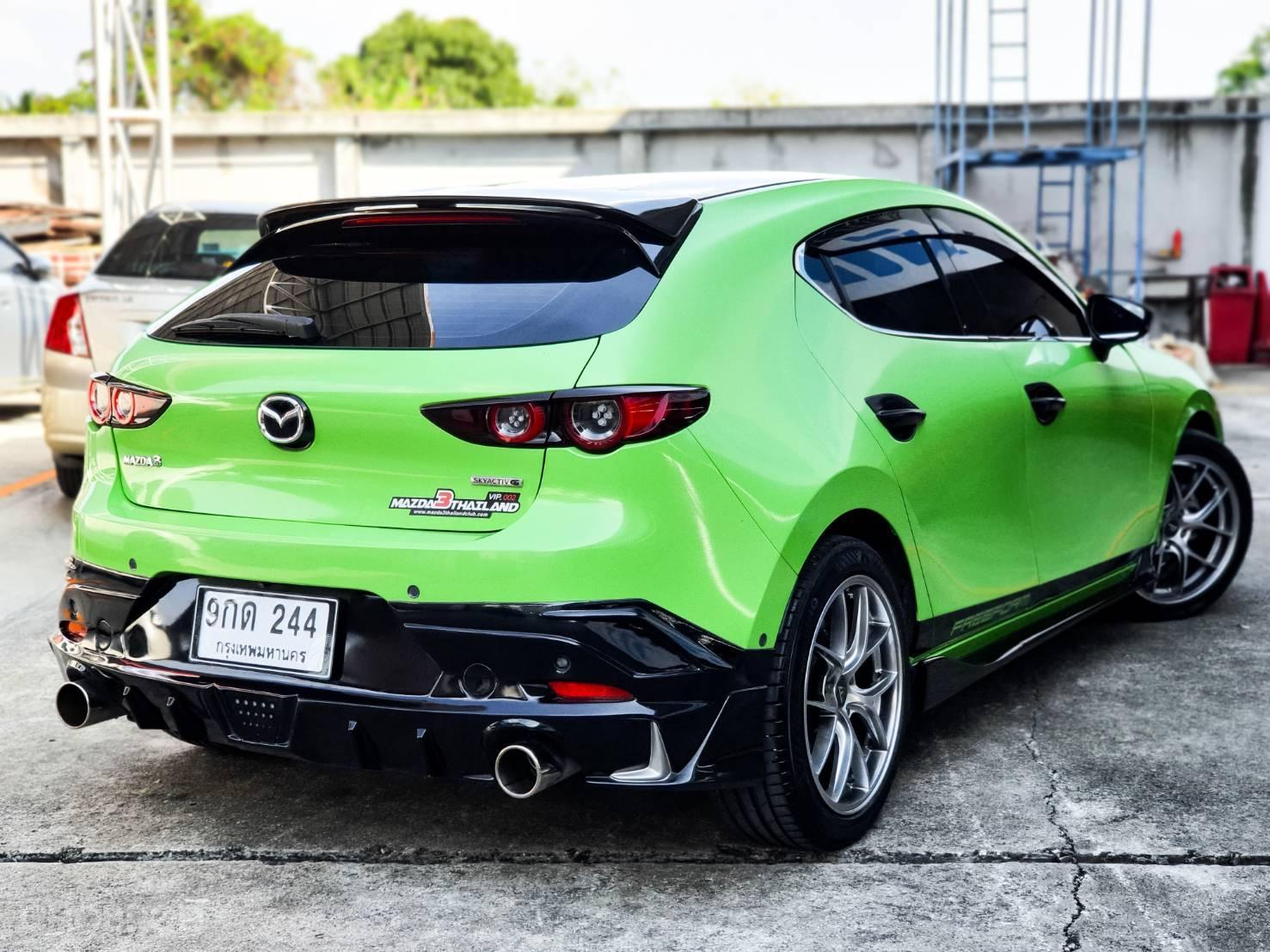license-plate: (184, 581, 340, 683)
